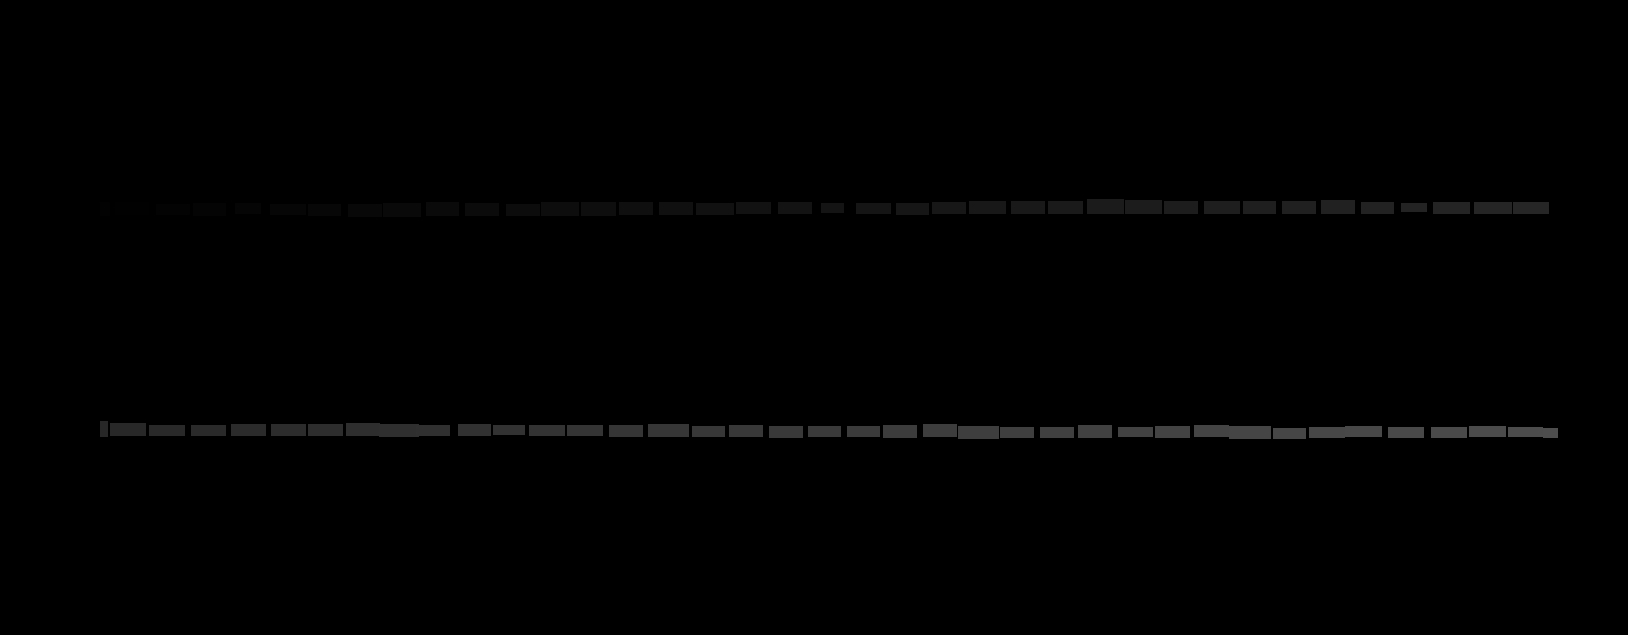light: (1087, 199, 1124, 214), (541, 202, 579, 216), (648, 424, 689, 437), (1229, 426, 1271, 439), (383, 203, 420, 217), (379, 424, 419, 437), (958, 426, 999, 439), (1125, 200, 1162, 214), (969, 201, 1006, 214), (581, 202, 616, 216), (1321, 200, 1355, 214), (110, 423, 146, 436), (426, 202, 459, 216), (1048, 201, 1083, 214), (1204, 201, 1240, 214), (696, 203, 734, 215), (115, 202, 150, 215), (348, 204, 382, 217), (465, 203, 499, 216), (619, 202, 653, 215), (1164, 201, 1198, 214), (1433, 202, 1470, 214), (1474, 202, 1512, 214), (346, 423, 380, 436), (883, 425, 917, 438), (923, 424, 957, 437), (1078, 425, 1112, 438), (1513, 202, 1549, 214), (193, 203, 226, 216), (659, 202, 693, 215), (1011, 201, 1044, 214), (1243, 201, 1276, 214), (1282, 201, 1315, 214), (736, 202, 771, 214), (230, 424, 266, 436), (271, 424, 306, 436), (1155, 426, 1190, 438), (1194, 425, 1229, 437), (506, 204, 540, 216), (778, 202, 812, 214), (308, 424, 343, 436), (729, 425, 763, 437), (1345, 426, 1382, 437), (896, 203, 929, 215), (932, 202, 966, 214), (1361, 202, 1394, 214), (458, 424, 491, 436), (609, 425, 643, 437), (769, 426, 803, 438), (1273, 427, 1306, 439), (270, 204, 306, 215), (567, 425, 603, 436), (1388, 427, 1424, 438), (1431, 427, 1467, 438), (1469, 426, 1505, 437), (308, 204, 341, 216), (856, 203, 891, 214), (150, 425, 185, 436), (191, 425, 226, 436), (530, 425, 565, 436), (1309, 427, 1345, 438), (156, 204, 190, 215), (1000, 427, 1034, 438), (416, 425, 450, 436), (691, 426, 725, 437), (808, 426, 841, 437), (847, 426, 880, 437), (1040, 427, 1074, 438), (1118, 427, 1154, 437), (1508, 427, 1543, 437), (493, 425, 525, 435), (235, 203, 261, 214), (1401, 203, 1427, 212), (821, 203, 844, 213), (1543, 427, 1558, 438), (100, 202, 110, 216), (100, 421, 108, 437)
